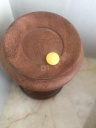Nurofen: (45, 51, 60, 66)
